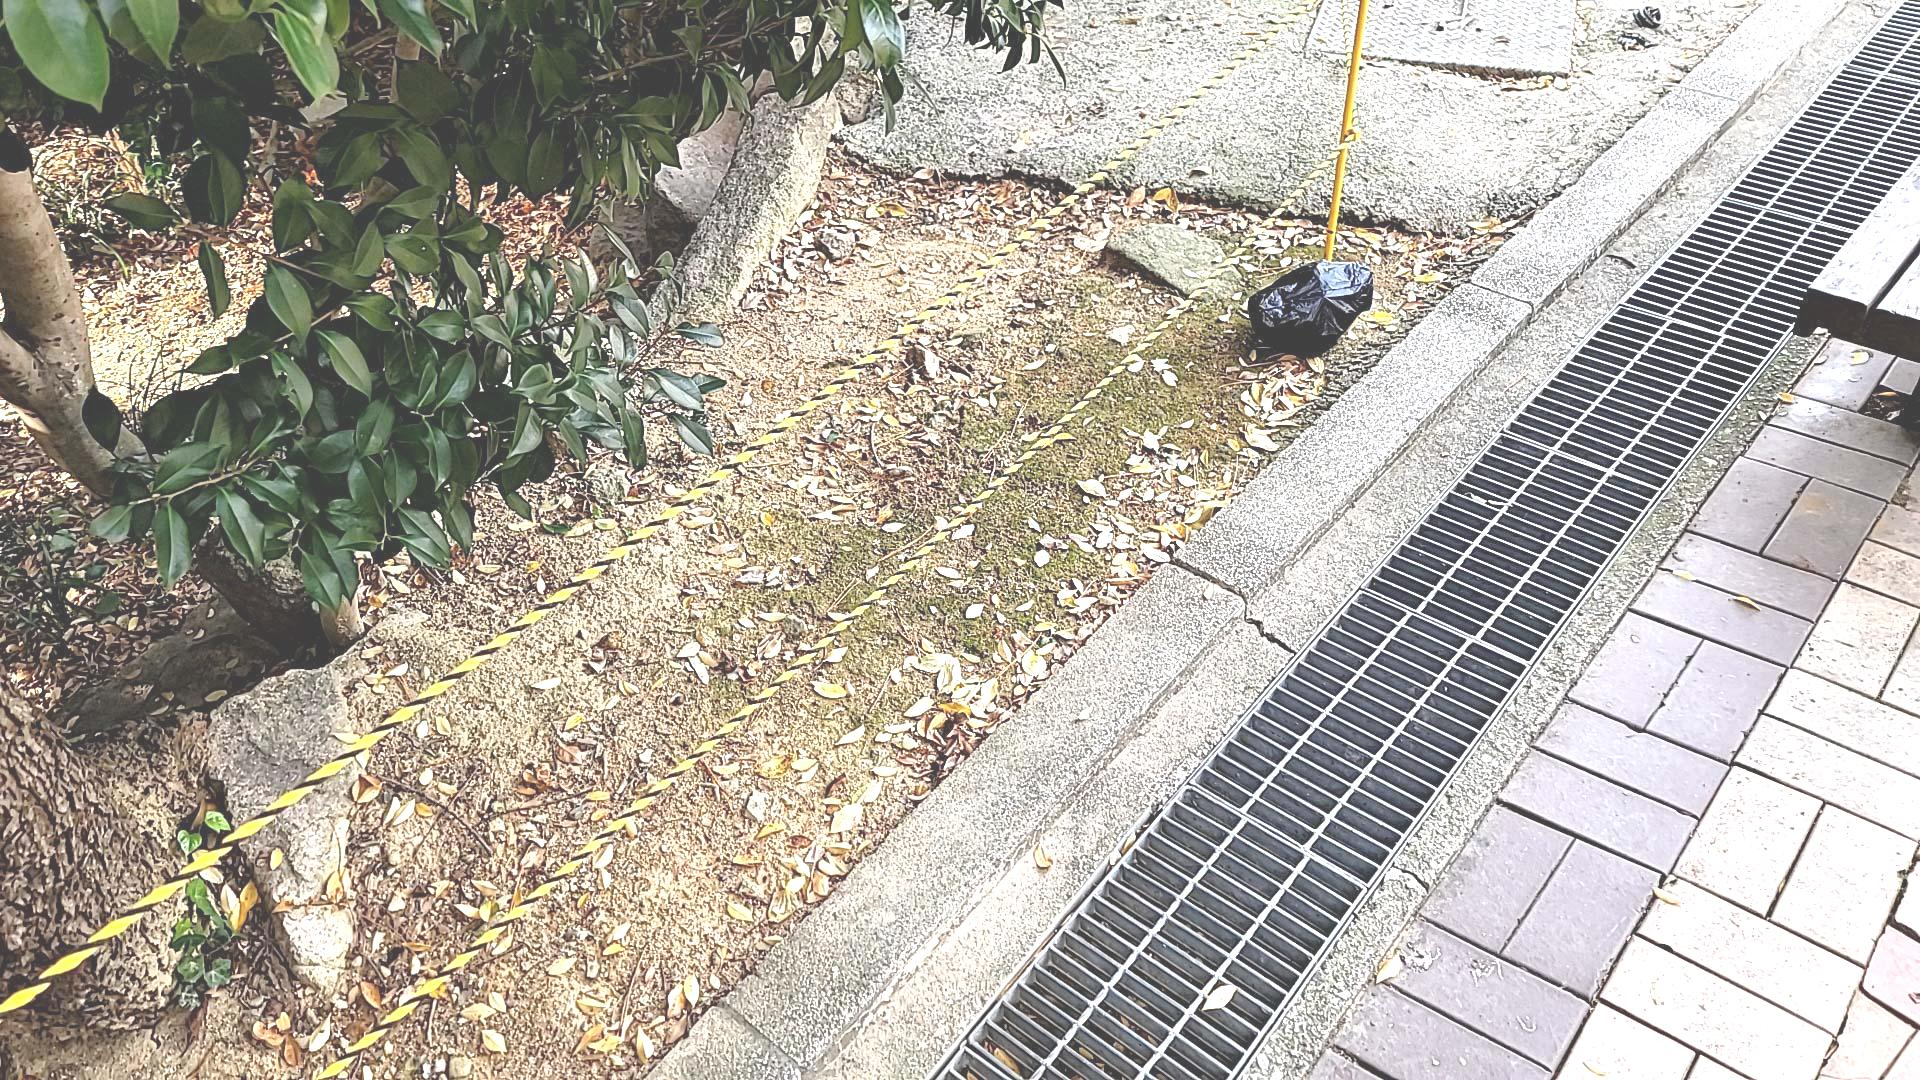black_bag: (1244, 257, 1375, 359)
